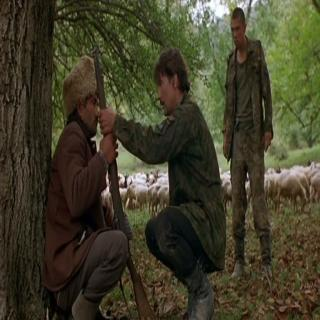gun: (88, 50, 154, 319)
